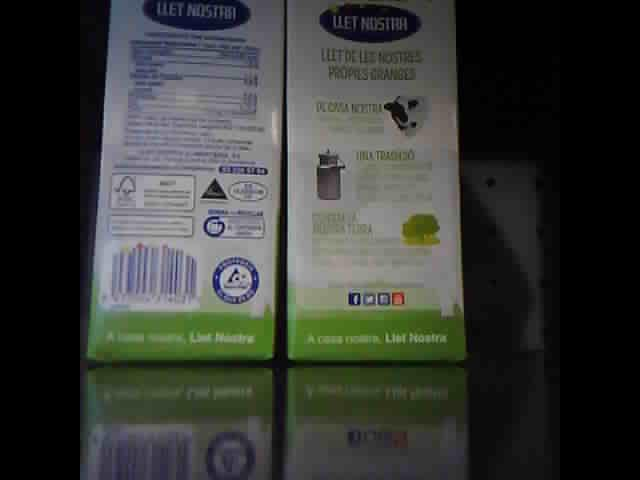leche: (86, 1, 287, 363), (285, 1, 462, 364)
